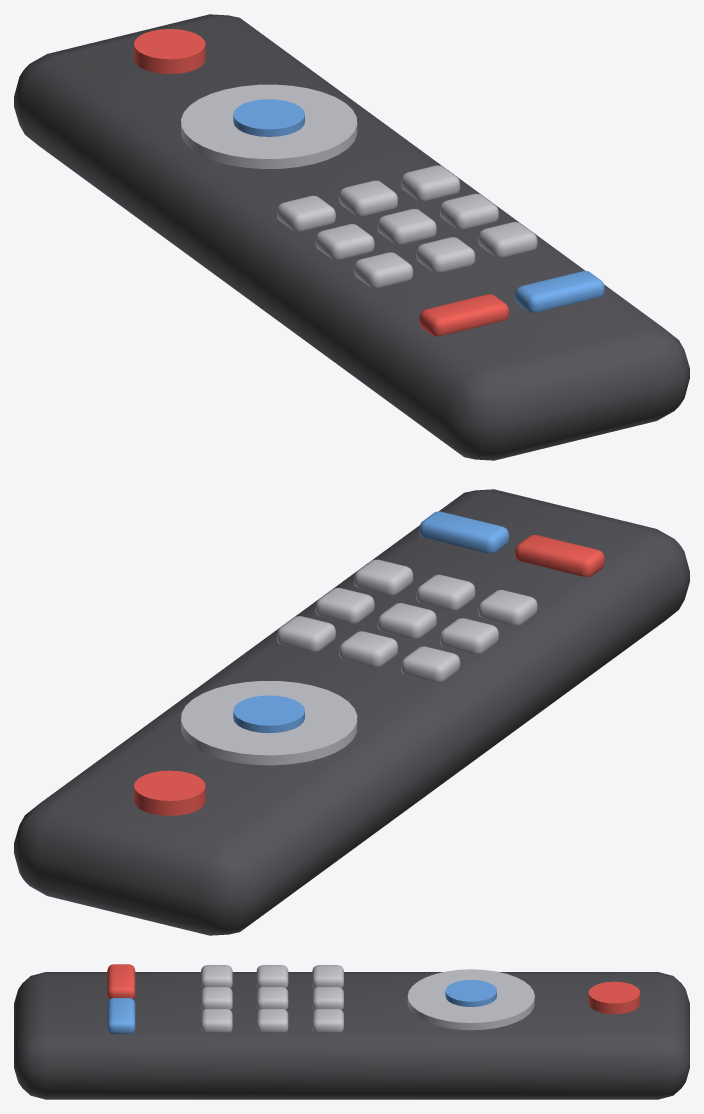
The model's file is Item_RemoteControl.fbx.
3 views of the same model, one above another, from view 1: azimuth 30°, elevation 25°; view 2: azimuth 150°, elevation 25°; view 3: azimuth 270°, elevation 25° (orthographic). The views are drawn at different scales.
Visible parts, largest first — view 1: Item_RemoteControl; view 2: Item_RemoteControl; view 3: Item_RemoteControl.
Boxes of the visible parts, x1,y1,x2,y2 form: Item_RemoteControl: [14, 14, 689, 460]; Item_RemoteControl: [14, 489, 689, 935]; Item_RemoteControl: [14, 964, 689, 1099].
Size of the model in its own units: 0.05 by 0.0215 by 0.17.
